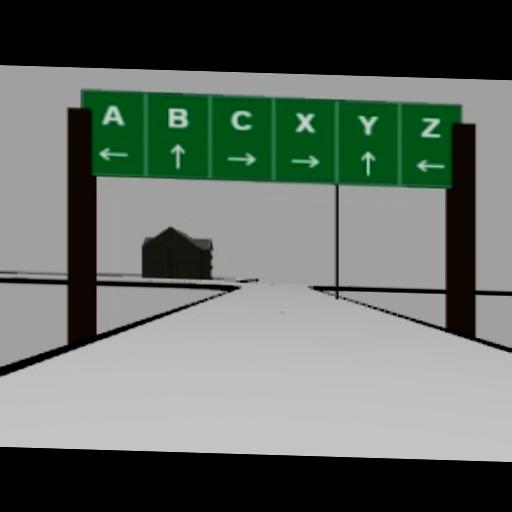A: (100, 102, 124, 126)
B: (166, 106, 188, 128)
C: (230, 108, 252, 130)
Left: (96, 147, 130, 162), (414, 158, 446, 173)
Right: (226, 151, 258, 166), (289, 155, 319, 169)
Straight: (170, 142, 186, 169), (359, 150, 375, 176)
X: (292, 110, 316, 132)
Y: (356, 112, 378, 136)
Z: (418, 116, 442, 138)
